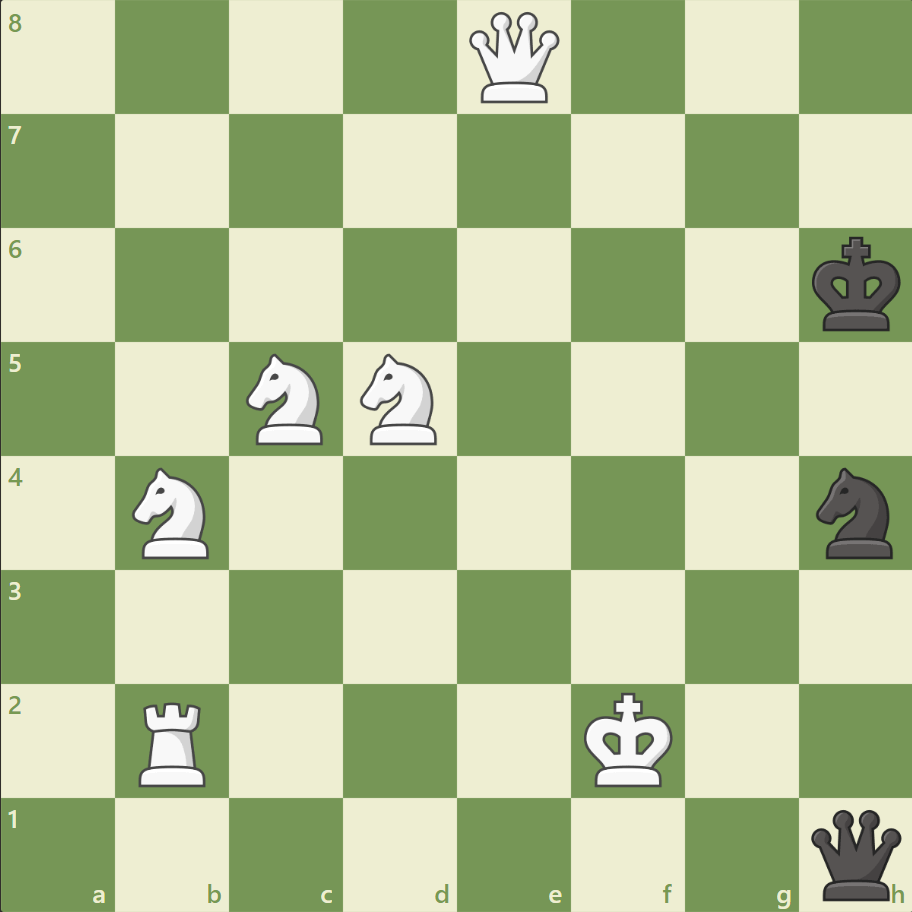K: (579, 685, 679, 793)
N: (124, 461, 222, 564), (351, 348, 449, 450), (238, 348, 335, 450)
Q: (464, 9, 563, 108)
R: (133, 693, 215, 790)
k: (806, 231, 906, 339)
n: (806, 461, 903, 564)
q: (805, 804, 904, 903)
